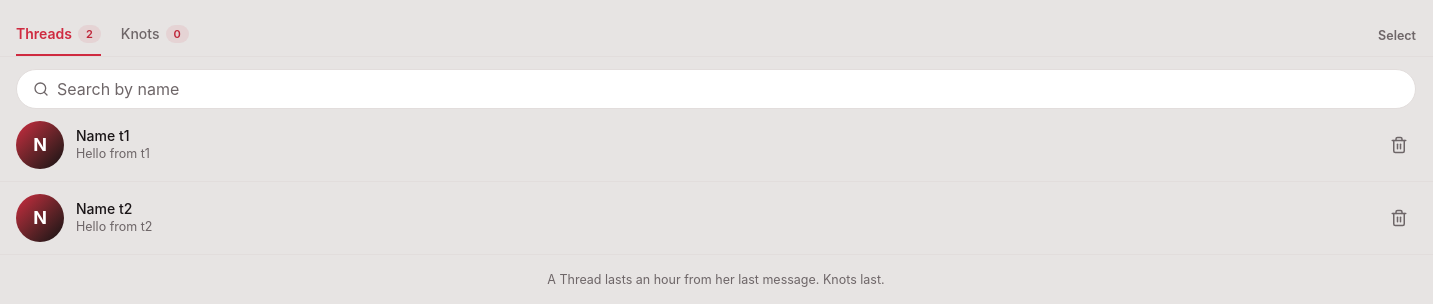
Scenario: clearing one, with 5 s to undo it › takes the row out at once, then offers Undo, which brings it back
The width and height of the screenshot is (1433, 304).
Step 1. Click the button named "Clear the chat with Name t1" → (1399, 145), box [1382,128,1416,162]
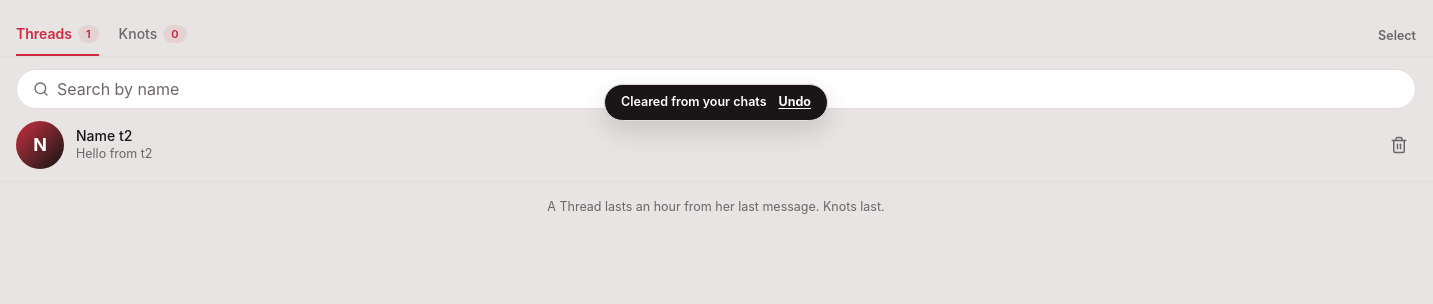
Check: the link "Name t1" is gone
Check: the text "Cleared from your chats" is shown, box [621,93,767,112]
Step 2. Click the button "Undo" → (795, 102), box [778,93,811,112]
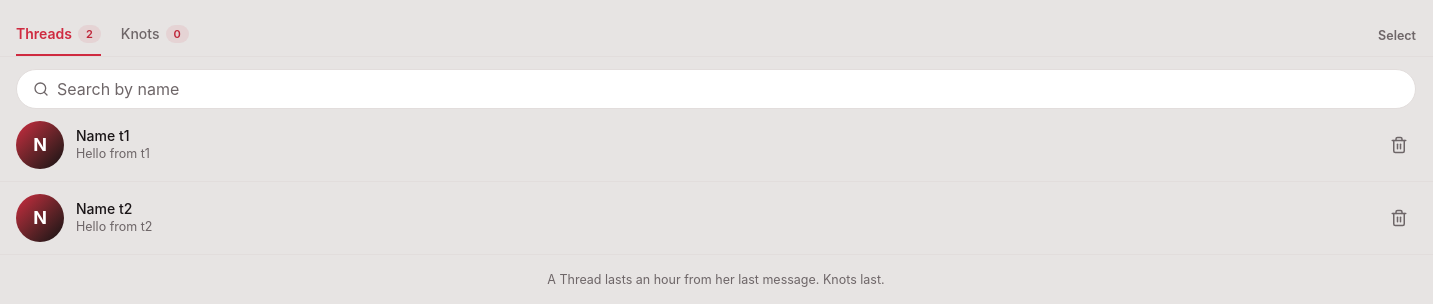
Check: the text "Name t1" is shown, box [76,126,130,145]
